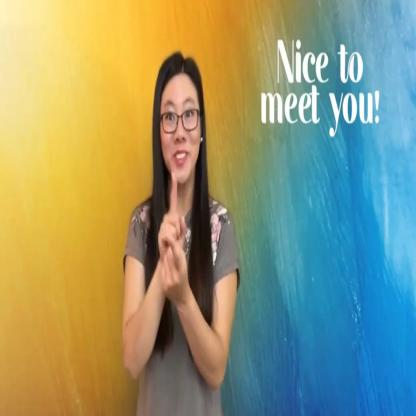NiceToMeetYou: (128, 158, 202, 298)
